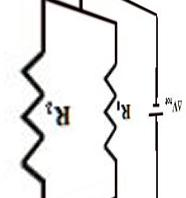resistor: (7, 44, 50, 185), (89, 54, 118, 162)
